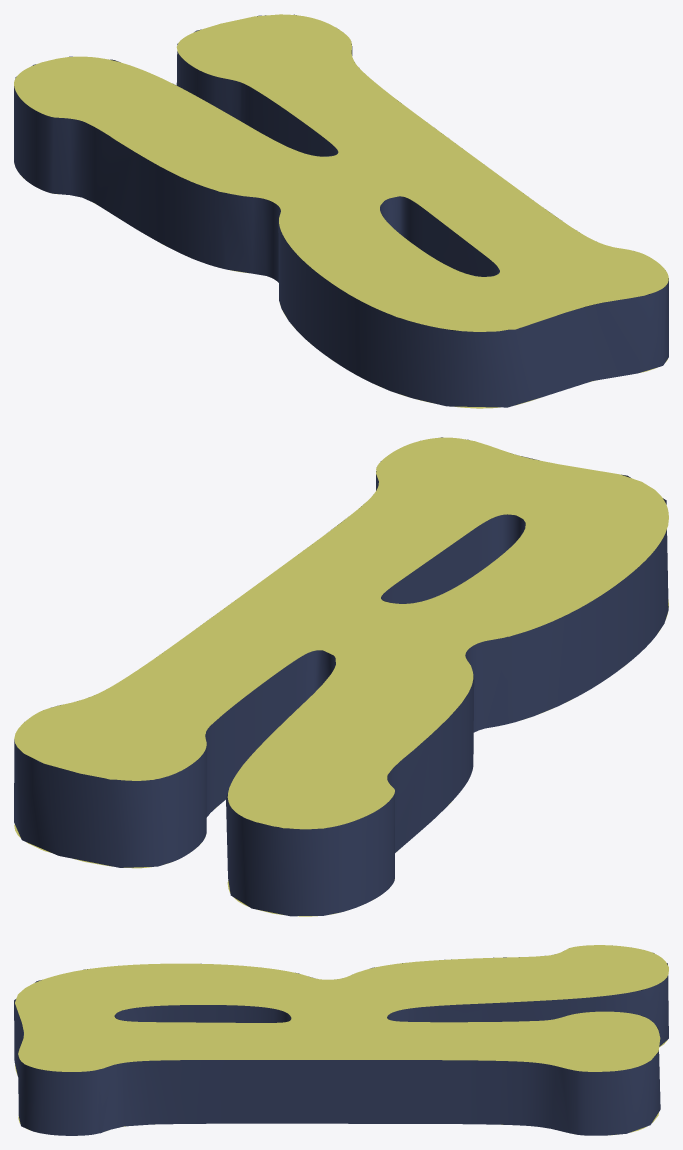
Rendered from r_boss.fbx.
3 renders of one model, top to bottom at view 1: azimuth 30°, elevation 25°; view 2: azimuth 150°, elevation 25°; view 3: azimuth 270°, elevation 25°, orthographic. The views are drawn at different scales.
Visible parts, largest first — view 1: R; view 2: R; view 3: R.
Part boxes in pixels (x1,y1,x2,y2): R: [14, 14, 668, 408]; R: [14, 437, 668, 916]; R: [14, 945, 668, 1135].
Bounding box in the file's own units: 0.6817 × 0.1599 × 1.49.
